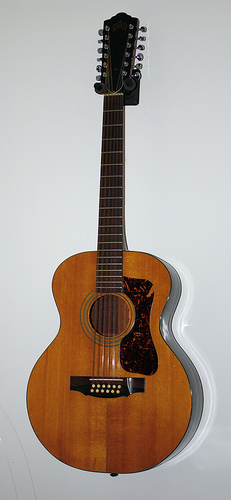guitar: (26, 12, 204, 475)
